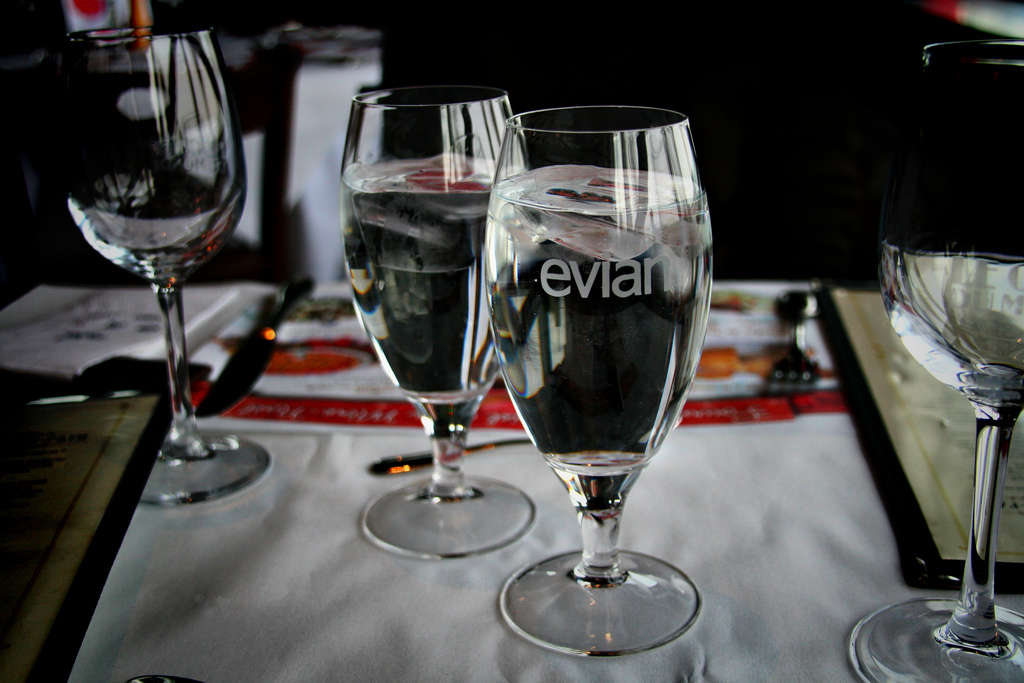glass of water: (363, 97, 675, 648), (63, 30, 278, 512)
